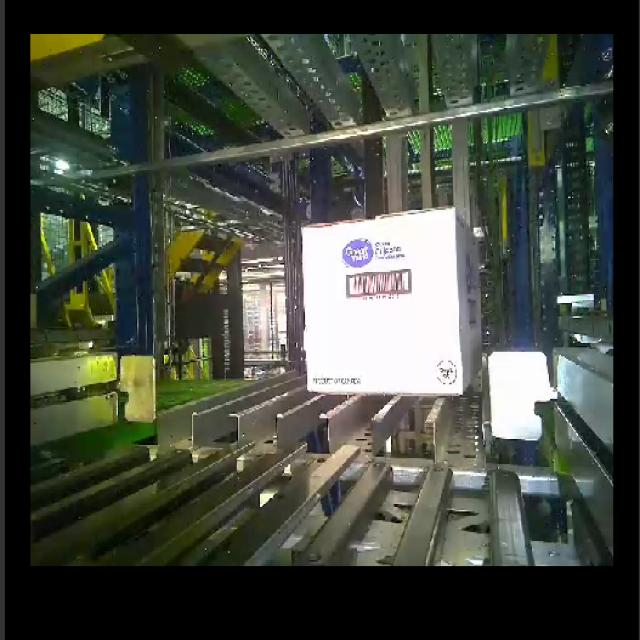box: (300, 204, 465, 401)
